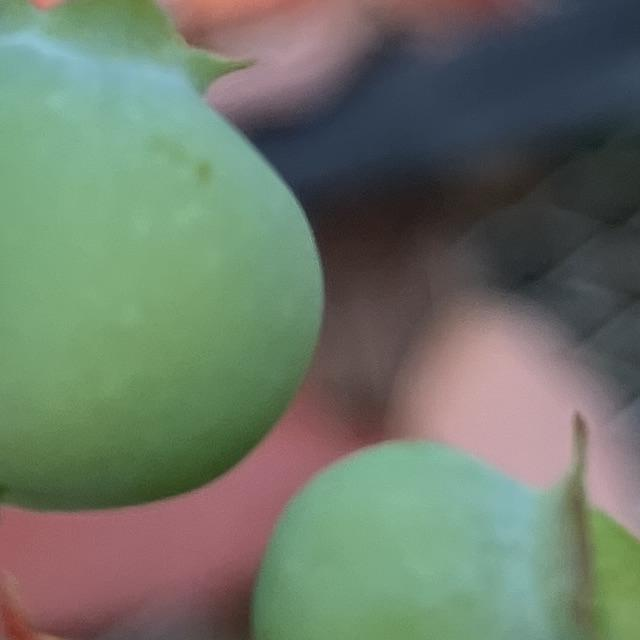Blueberries: (232, 422, 640, 640)
